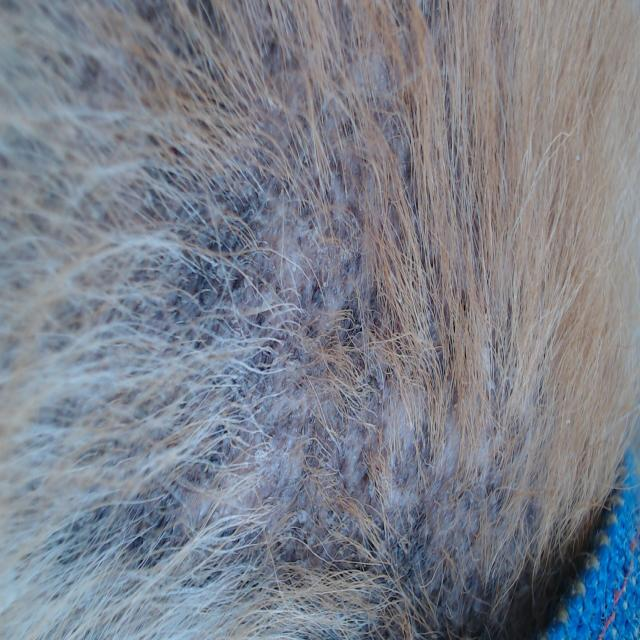demodicosis: (133, 95, 406, 583)
